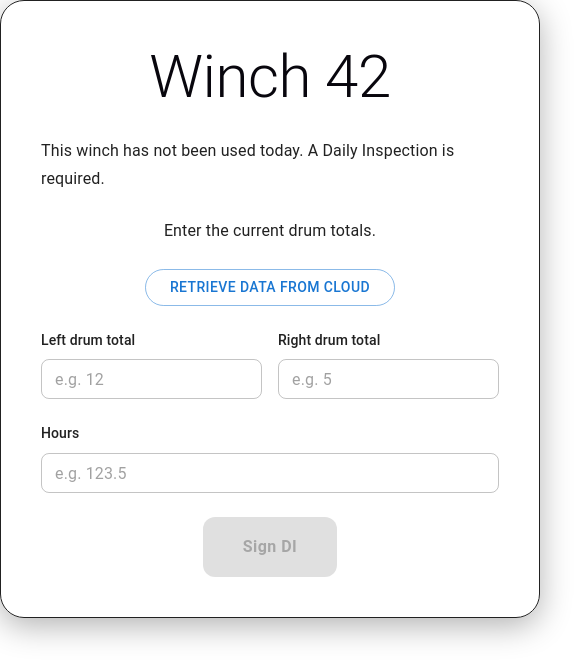
Test: DailyInspectionPanel › retrieves data from cloud and updates fields
Click the button "Retrieve data from cloud".
click(270, 287)  # box x1=145 y1=269 x2=395 y2=306
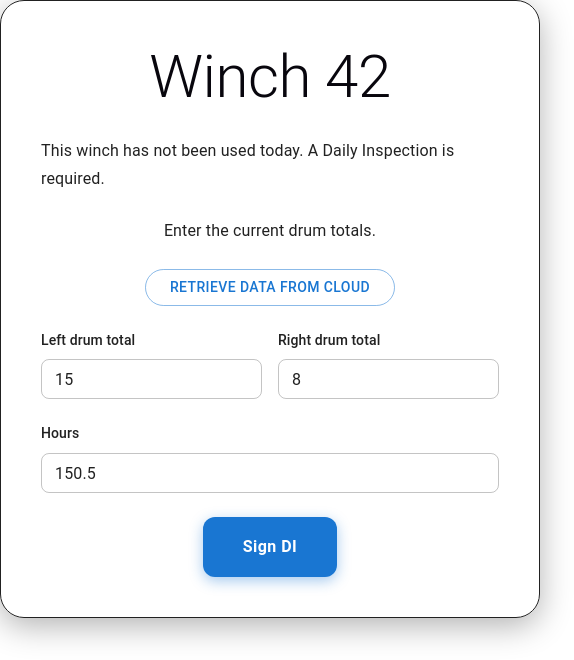
Expected: the number field showing "150.5" below "Hours" is shown, x1=41 y1=453 x2=499 y2=493
